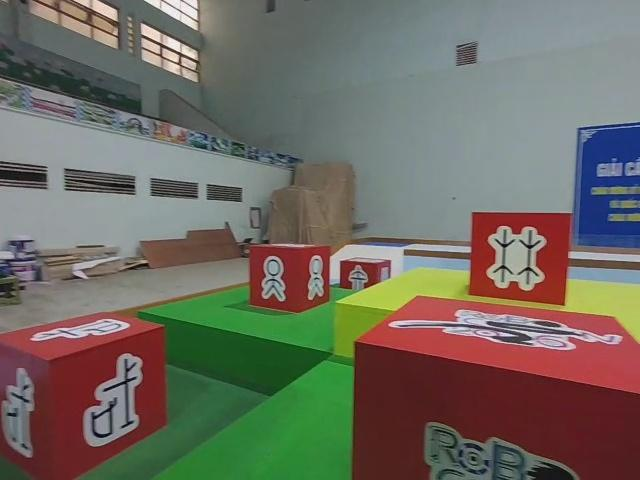R1: (340, 292, 639, 480)
R2 Fake: (338, 255, 391, 298)
R2 Real: (0, 310, 168, 480), (469, 207, 571, 309), (248, 238, 330, 315)
